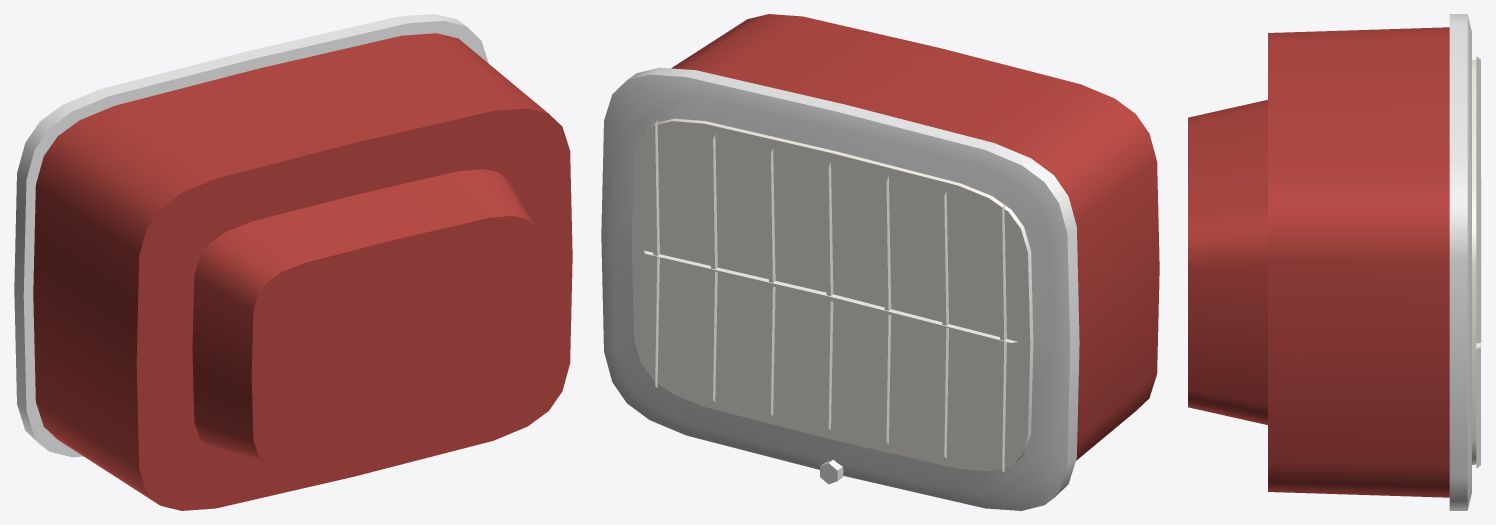
Rendered from square.glb.
The picture shows the model from 3 angles, left to right: view 1: azimuth 30°, elevation 25°; view 2: azimuth 150°, elevation 25°; view 3: azimuth 270°, elevation 25°; orthographic projection. The views are drawn at different scales.
Parts seen in each view (by area): view 1: lod0; view 2: lod0; view 3: lod0.
Boxes of the visible parts, <box> form: lod0: <box>14,14,572,510</box>; lod0: <box>601,14,1159,510</box>; lod0: <box>1188,14,1481,510</box>.
Size of what is drawn, in the model's own units: 2.3 by 1.72 by 1.32.
